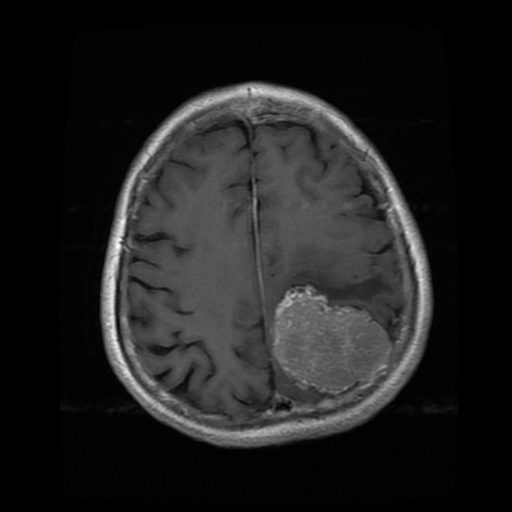meningioma: (274, 283, 390, 393)
